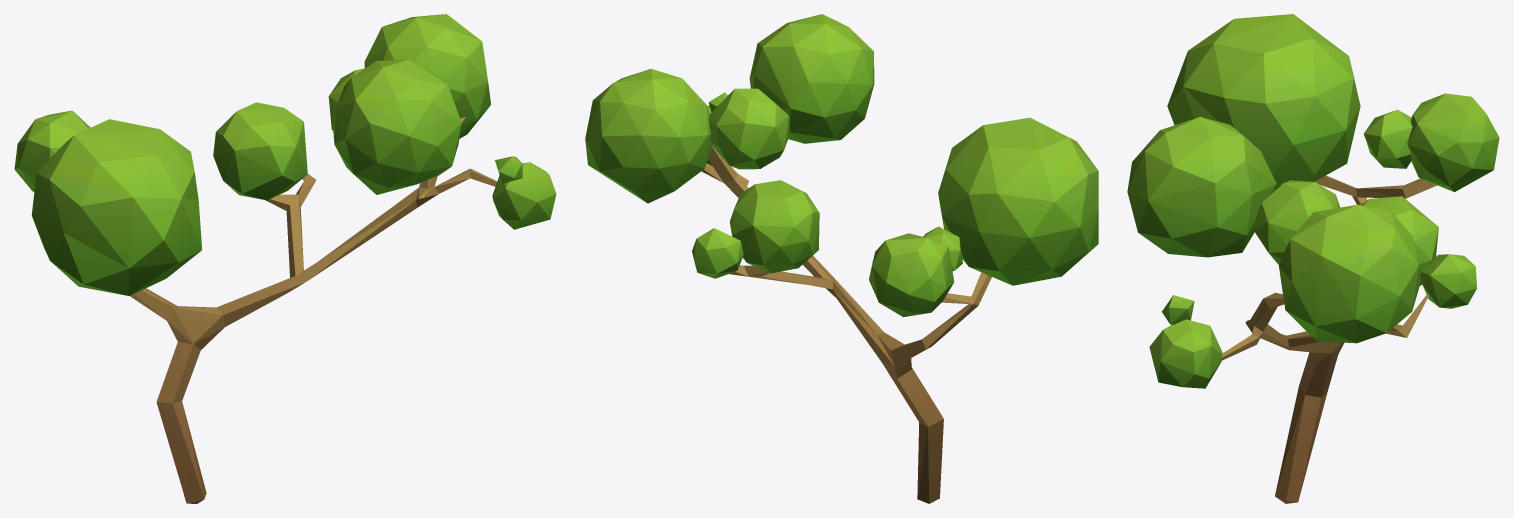
Rendered from bonsai_lowpoly.glb.
The picture shows the model from 3 angles, left to right: view 1: azimuth 30°, elevation 25°; view 2: azimuth 150°, elevation 25°; view 3: azimuth 270°, elevation 25°; orthographic projection. The views are drawn at different scales.
Visible parts, largest first — view 1: Bonsai.Tree.000__0; view 2: Bonsai.Tree.000__0; view 3: Bonsai.Tree.000__0.
Boxes of the visible parts, bbox=[...] form: Bonsai.Tree.000__0: bbox=[14, 14, 556, 503]; Bonsai.Tree.000__0: bbox=[585, 14, 1098, 503]; Bonsai.Tree.000__0: bbox=[1127, 14, 1499, 503].
Size of the model in its own units: 8.16 by 6.97 by 5.07.
1 material, 1 textured.
